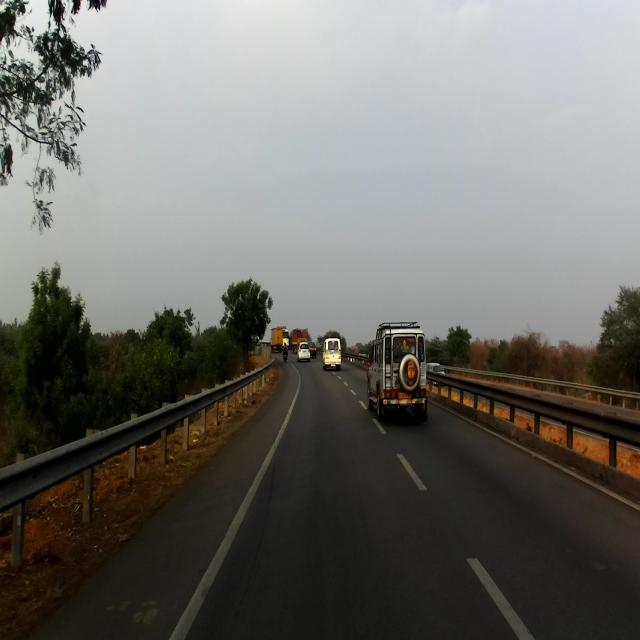Car_Maruti-Suzuki: (297, 341, 310, 362)
Car_TATA: (322, 338, 341, 370)
car_Force: (366, 320, 428, 422)
